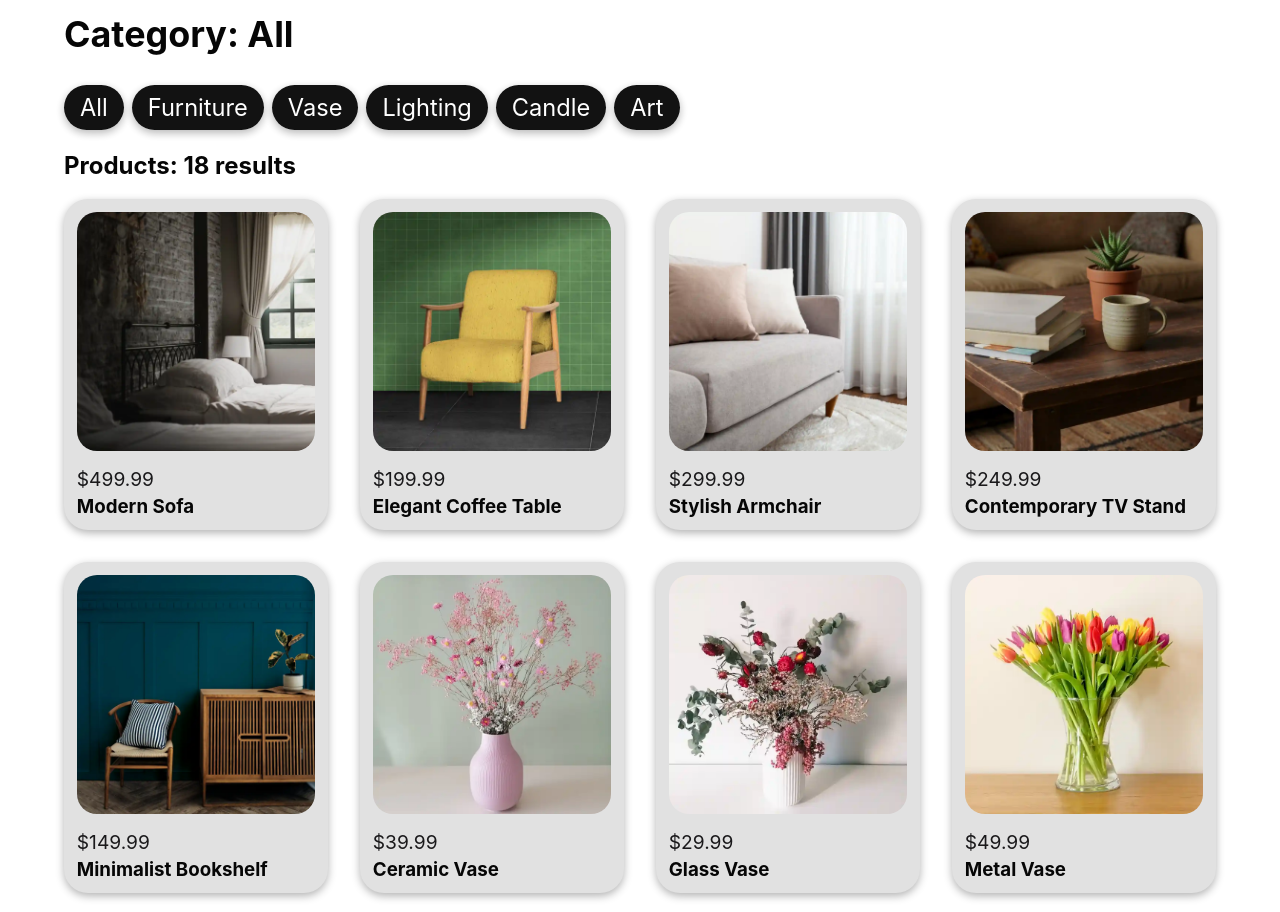
Test case: Hero › updates heading when a category link is clicked
This screenshot has width=1280, height=912.
Check: the heading "Category: All" is shown, box [64,12,294,56]
Click the link "Vase" at (315, 107), box [272,85,358,130]
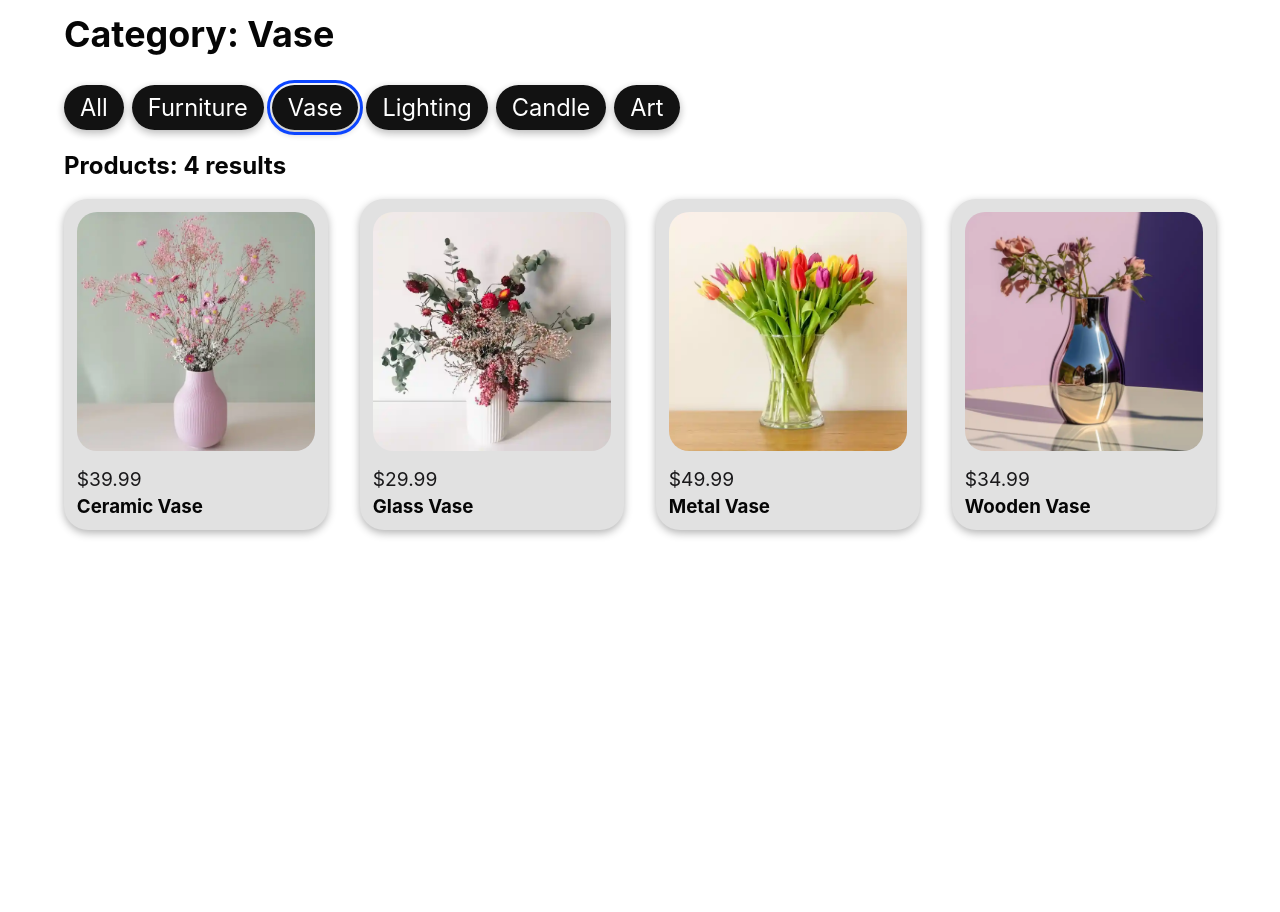
Check: the heading "Category: Vase" is shown, box [64,12,334,56]
